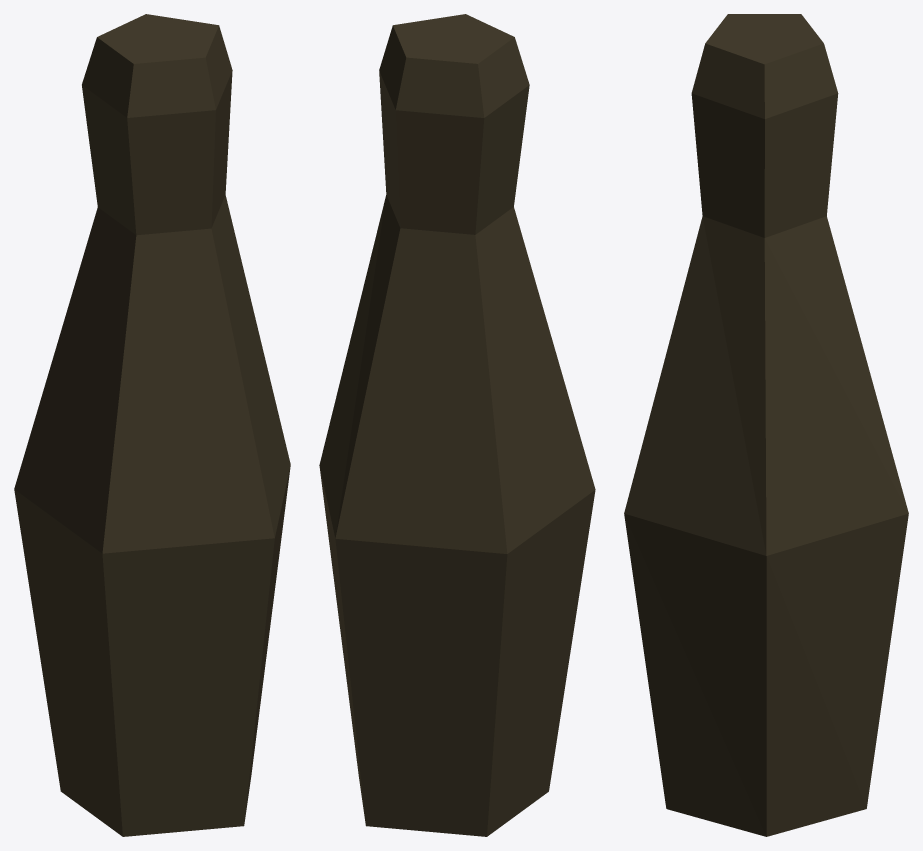
The model's file is ITMI_ALCHEMY_QUICKSILVER_01.OBJ.
3 renders of one model, left to right at view 1: azimuth 30°, elevation 25°; view 2: azimuth 150°, elevation 25°; view 3: azimuth 270°, elevation 25°, orthographic.
Visible parts, largest first — view 1: ITMI_ALCHEMY_QUICKSILVER_01; view 2: ITMI_ALCHEMY_QUICKSILVER_01; view 3: ITMI_ALCHEMY_QUICKSILVER_01.
Part boxes in pixels (x1=…): ITMI_ALCHEMY_QUICKSILVER_01: x1=14, y1=14, x2=290, y2=836; ITMI_ALCHEMY_QUICKSILVER_01: x1=319, y1=14, x2=595, y2=836; ITMI_ALCHEMY_QUICKSILVER_01: x1=624, y1=14, x2=908, y2=836.
Size of the model in its own units: 0.0821 by 0.2562 by 0.0874.
